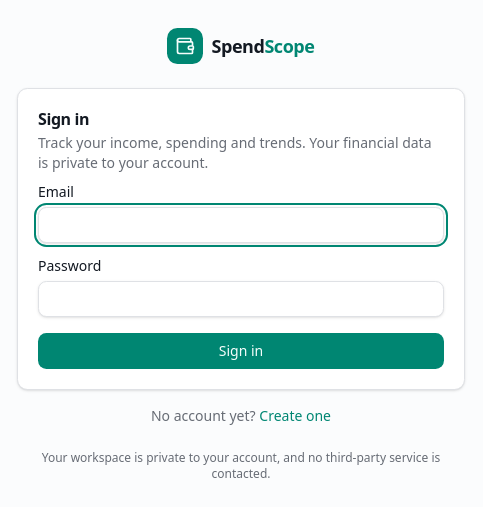
Test: SignInPage › shows a validation error for a malformed email without submitting
Type "not-an-email" into the field labelled "Email" at (241, 225), box [38, 207, 444, 243]
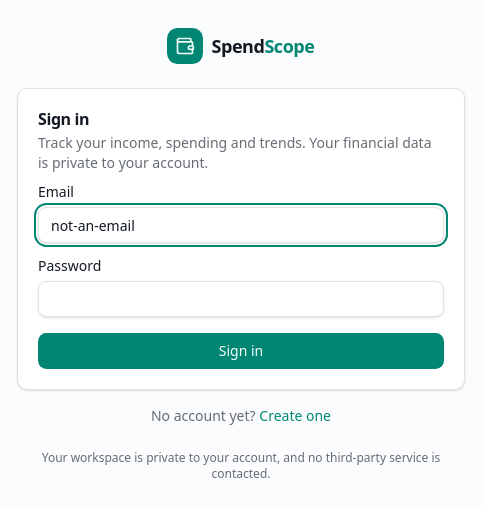
Type "a-strong-passw0rd" into the password field labelled "Password" at (241, 299), box [38, 281, 444, 317]
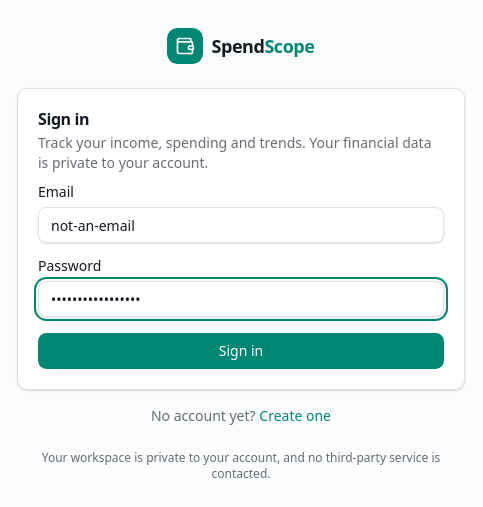
Click the button "Sign in" at (241, 351), box [38, 333, 444, 369]
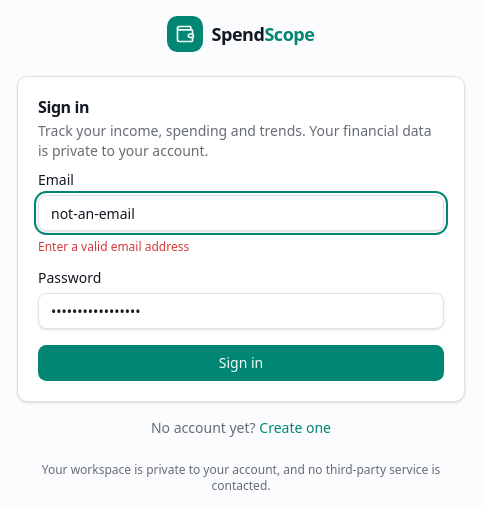
Result: the text "Enter a valid email address" is shown at [38, 238, 189, 255]
